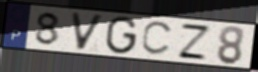8: (216, 25, 246, 66), (34, 11, 62, 47)
C: (140, 20, 176, 57)
G: (103, 15, 140, 56)
V: (69, 11, 106, 52)
Z: (175, 22, 214, 62)
